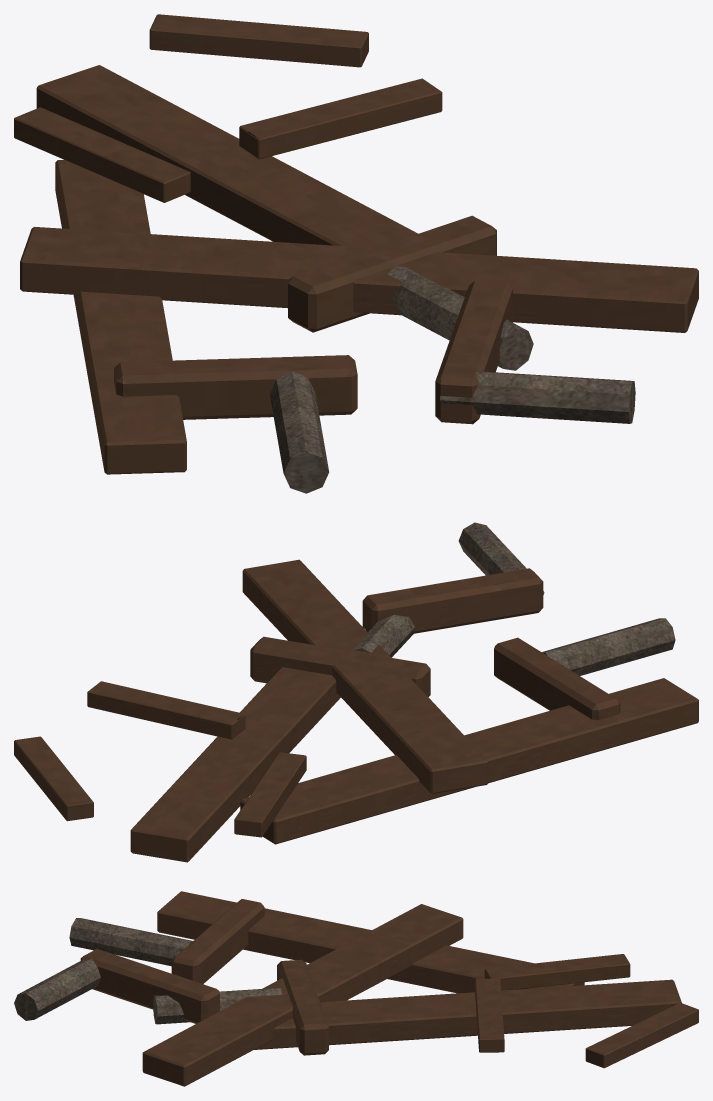
The model's file is broken-weapons.glb.
The picture shows the model from 3 angles, top to bottom: view 1: azimuth 30°, elevation 25°; view 2: azimuth 150°, elevation 25°; view 3: azimuth 270°, elevation 25°; orthographic projection. The views are drawn at different scales.
Parts seen in each view (by area): view 1: broken-weapons; view 2: broken-weapons; view 3: broken-weapons.
Boxes of the visible parts, box(x1,y1,x2,y2) form: broken-weapons: box(14, 14, 698, 493); broken-weapons: box(14, 522, 698, 862); broken-weapons: box(14, 891, 698, 1086).
Size of the model in its own units: 0.5402 by 0.072 by 0.8074.
1 material, 1 textured.
